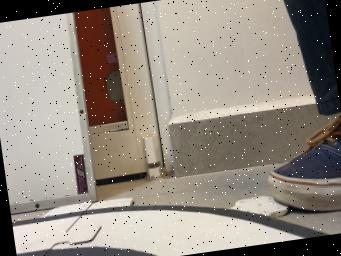street: (12, 205, 329, 256)
